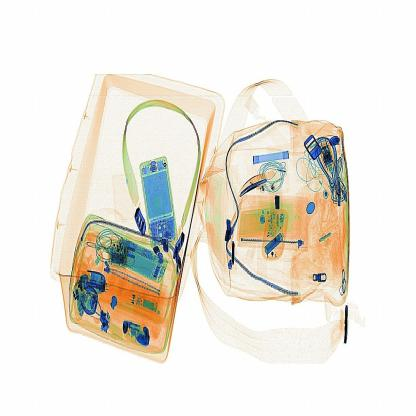pliers: (237, 167, 276, 203)
